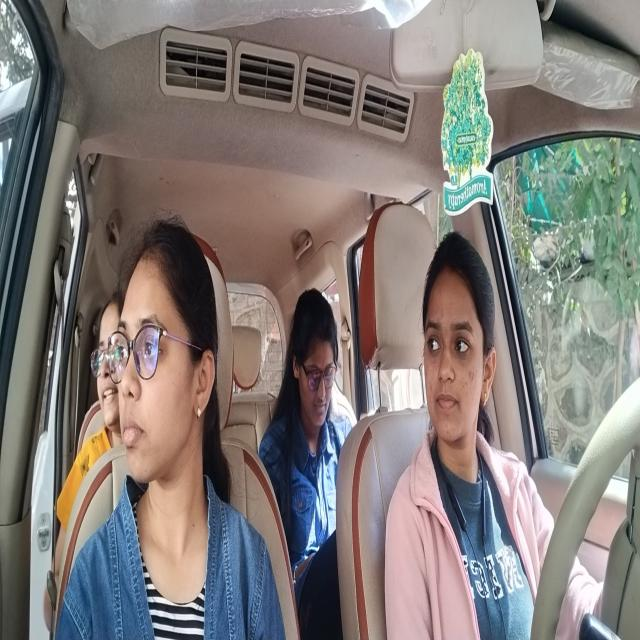LeftRight: (421, 235, 497, 456)
person: (117, 223, 218, 495), (289, 288, 343, 448), (95, 296, 127, 432)
